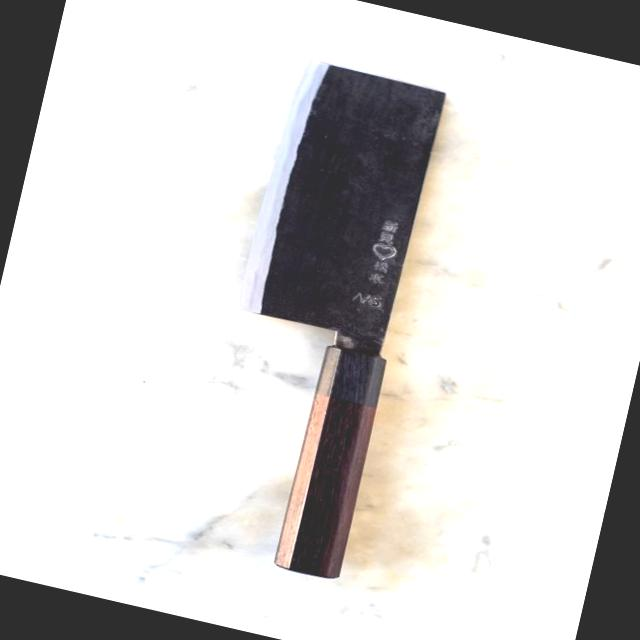cleaver: (180, 46, 468, 594)
